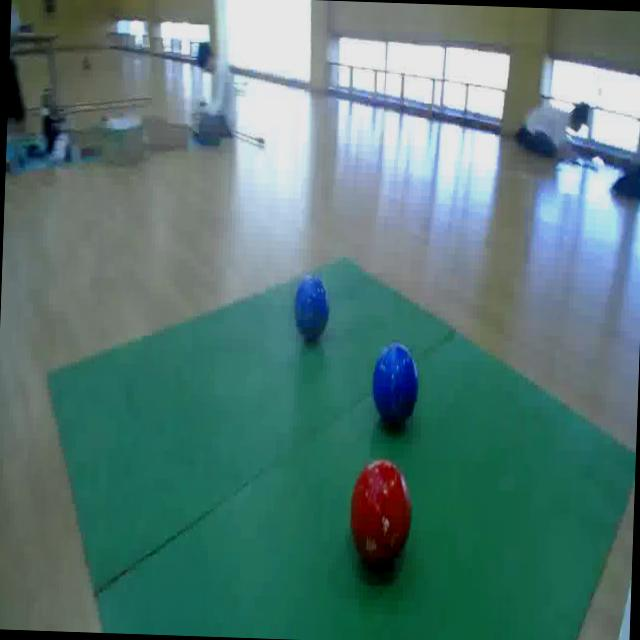blue_ball: (368, 335, 422, 424), (291, 274, 331, 340)
red_ball: (344, 450, 417, 578)
